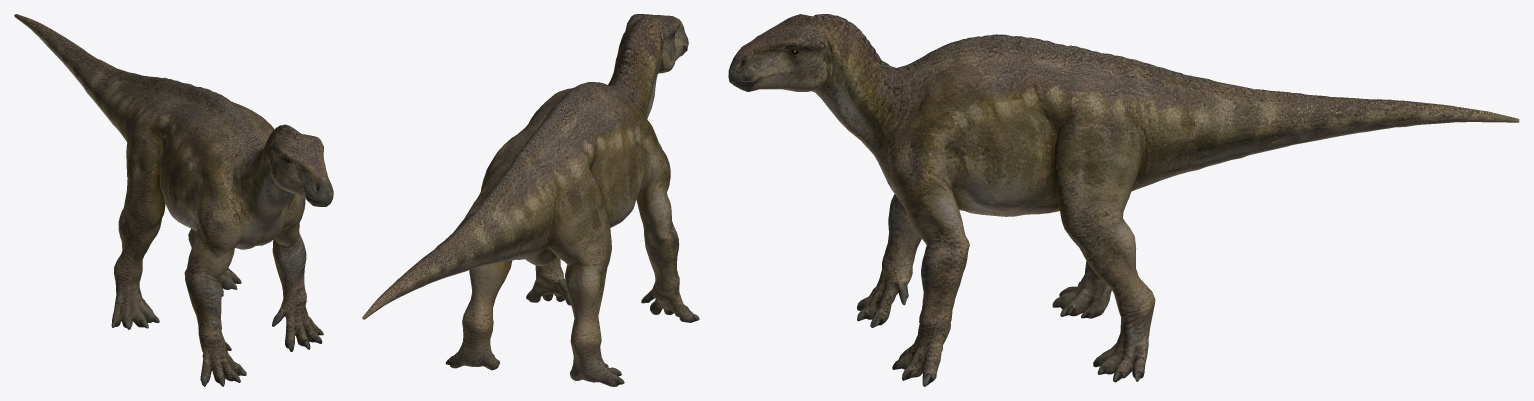
Rendered from iguanodon.glb.
3 renders of one model, left to right at view 1: azimuth 30°, elevation 25°; view 2: azimuth 150°, elevation 25°; view 3: azimuth 270°, elevation 25°, orthographic. The views are drawn at different scales.
Parts seen in each view (by area): view 1: dino; view 2: dino; view 3: dino.
Part boxes in pixels (left/top/right/bottom): dino: left=14, top=14, right=333, bottom=386; dino: left=362, top=14, right=699, bottom=386; dino: left=728, top=14, right=1519, bottom=386.
Bounding box in the file's own units: 2.85 × 4.6 × 10.
1 material, 1 textured.
